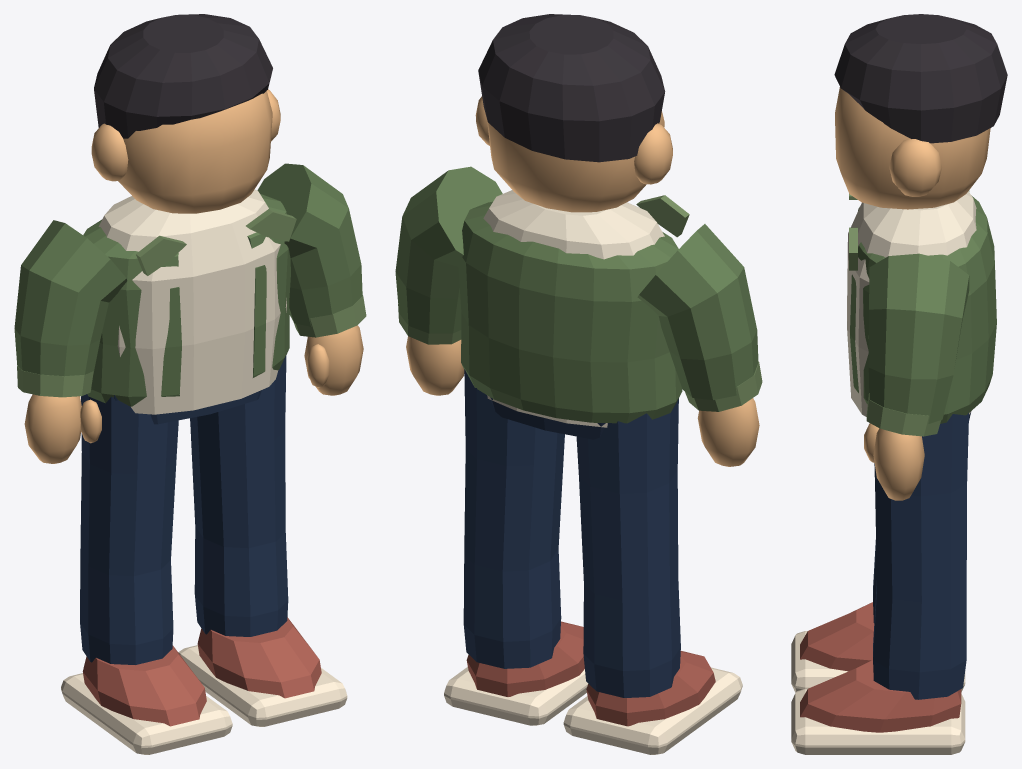
Rendered from blockout.glb.
3 renders of one model, left to right at view 1: azimuth 30°, elevation 25°; view 2: azimuth 150°, elevation 25°; view 3: azimuth 270°, elevation 25°, orthographic. The views are drawn at different scales.
Visible parts, largest first — view 1: campus_visitor_man; view 2: campus_visitor_man; view 3: campus_visitor_man.
Part boxes in pixels (x1,y1,x2,y2): campus_visitor_man: (14,14,366,754); campus_visitor_man: (395,14,762,754); campus_visitor_man: (791,14,1007,754).
Bounding box in the file's own units: 0.9754 × 1.81 × 0.522.
Materials: 1 (1 with a texture image).
